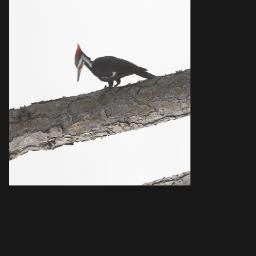Woodpecker: (71, 23, 159, 98)
